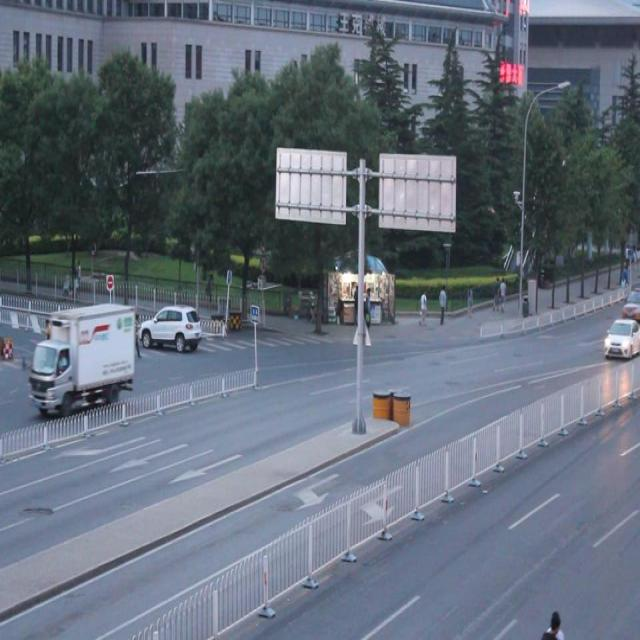bus: (31, 303, 135, 413)
car: (139, 302, 201, 349), (601, 318, 640, 359), (620, 288, 640, 315)
